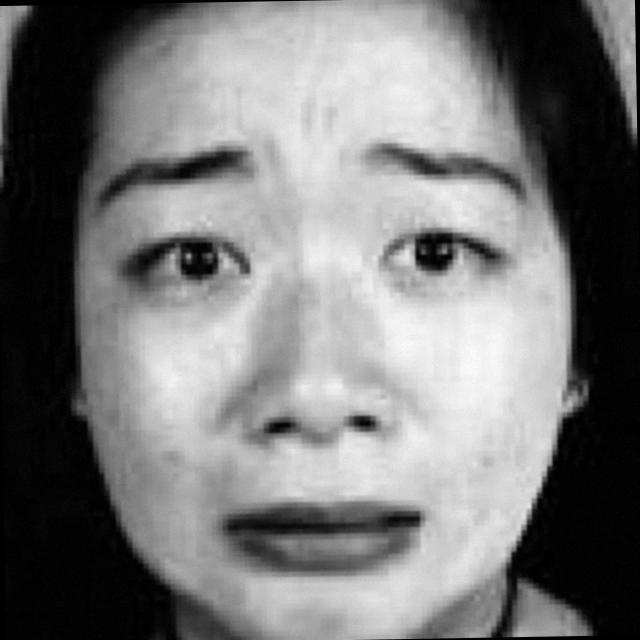fear: (81, 67, 554, 624)
